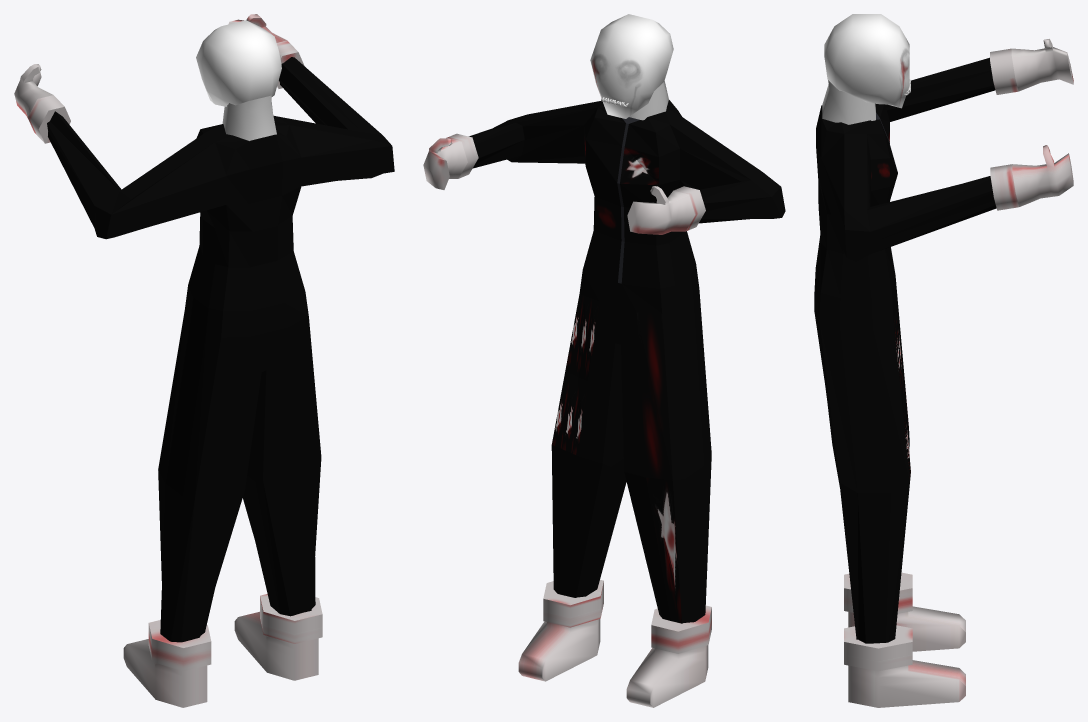
The model's file is demon.fbx.
3 renders of one model, left to right at view 1: azimuth 30°, elevation 25°; view 2: azimuth 150°, elevation 25°; view 3: azimuth 270°, elevation 25°, orthographic. The views are drawn at different scales.
Visible parts, largest first — view 1: Sphere_1, Sphere, Cylinder_1, Cylinder_2, Cylinder_4, Cylinder, Cylinder_3; view 2: Sphere_1, Sphere, Cylinder_1, Cylinder_2, Cylinder_4, Cylinder_3, Cylinder; view 3: Sphere_1, Cylinder_2, Sphere, Cylinder_3, Cylinder_1, Cylinder_4, Cylinder.
Boxes of the visible parts, left/top/right/bottom form: Sphere_1: left=47, top=57, right=394, bottom=642; Sphere: left=196, top=20, right=281, bottom=106; Cylinder_1: left=123, top=620, right=211, bottom=707; Cylinder_2: left=234, top=594, right=322, bottom=680; Cylinder_4: left=14, top=64, right=70, bottom=143; Cylinder: left=222, top=95, right=276, bottom=140; Cylinder_3: left=228, top=14, right=304, bottom=88; Sphere_1: left=469, top=100, right=785, bottom=623; Sphere: left=590, top=14, right=673, bottom=118; Cylinder_1: left=626, top=605, right=711, bottom=707; Cylinder_2: left=518, top=579, right=603, bottom=681; Cylinder_4: left=627, top=186, right=705, bottom=234; Cylinder_3: left=423, top=133, right=478, bottom=189; Cylinder: left=629, top=81, right=668, bottom=120; Sphere_1: left=814, top=57, right=996, bottom=643; Cylinder_2: left=844, top=625, right=965, bottom=707; Sphere: left=824, top=14, right=909, bottom=108; Cylinder_3: left=990, top=145, right=1073, bottom=210; Cylinder_1: left=844, top=572, right=965, bottom=651; Cylinder_4: left=990, top=39, right=1073, bottom=94; Cylinder: left=822, top=80, right=875, bottom=124.
Bounding box in the file's own units: 835 × 1779 × 645.
14 materials, 10 textured.
